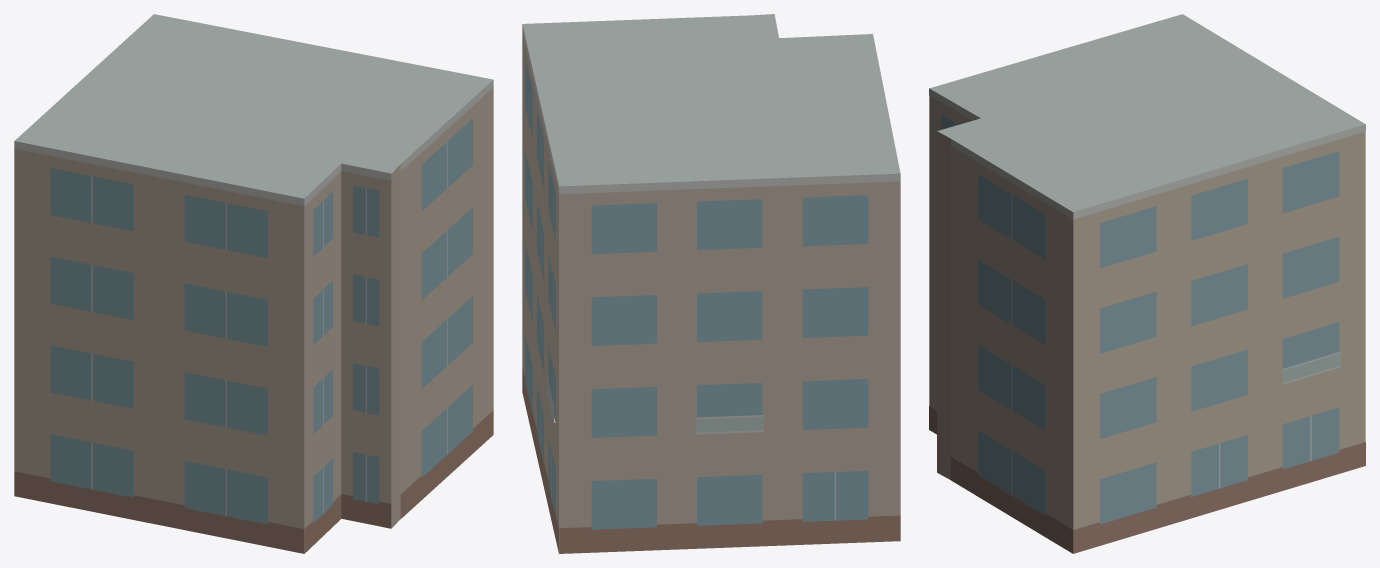
Rendered from survey-upis-32811872.glb.
3 renders of one model, left to right at view 1: azimuth 30°, elevation 25°; view 2: azimuth 150°, elevation 25°; view 3: azimuth 270°, elevation 25°, orthographic. The views are drawn at different scales.
Parts seen in each view (by area): view 1: survey-upis-32811872.tmp; view 2: survey-upis-32811872.tmp; view 3: survey-upis-32811872.tmp.
Part boxes in pixels (x1,y1,x2,y2): survey-upis-32811872.tmp: (14, 14, 493, 553); survey-upis-32811872.tmp: (522, 14, 900, 553); survey-upis-32811872.tmp: (929, 14, 1365, 553).
Bounding box in the file's own units: 14.32 × 11.5 × 13.33.
